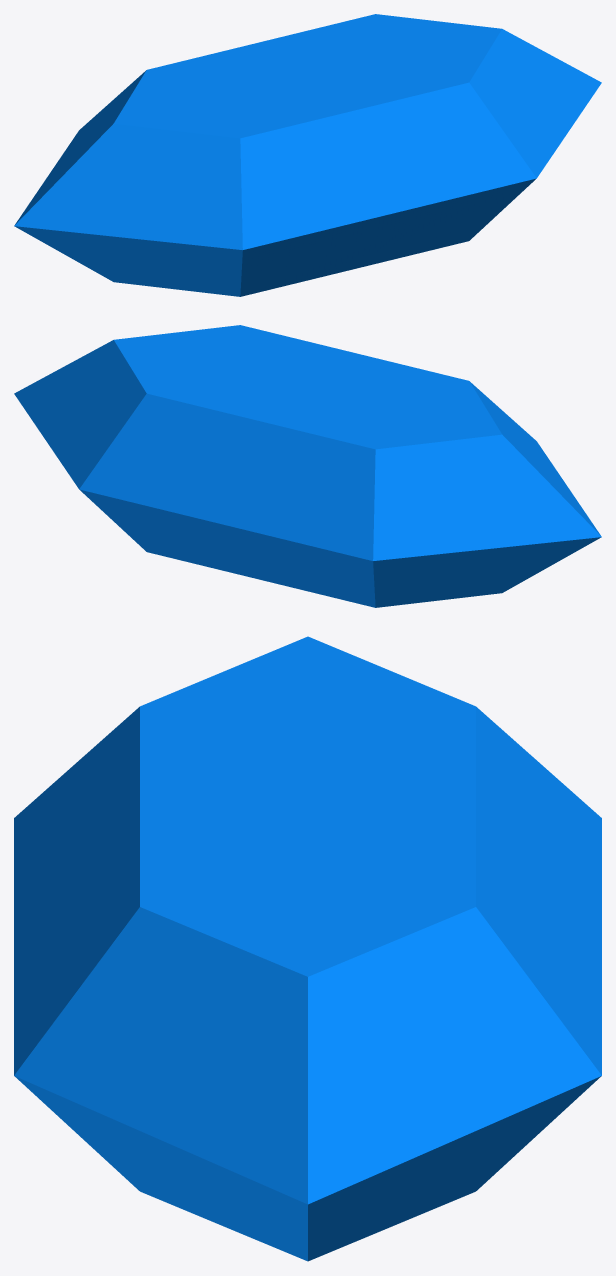
The model's file is daiya2.fbx.
The picture shows the model from 3 angles, top to bottom: view 1: azimuth 30°, elevation 25°; view 2: azimuth 150°, elevation 25°; view 3: azimuth 270°, elevation 25°; orthographic projection. The views are drawn at different scales.
Parts seen in each view (by area): view 1: pCylinder1; view 2: pCylinder1; view 3: pCylinder1.
Part boxes in pixels (x1,y1,x2,y2): pCylinder1: [14, 14, 601, 296]; pCylinder1: [14, 325, 601, 607]; pCylinder1: [14, 636, 601, 1261].
Bounding box in the file's own units: 2.81 × 0.724 × 1.36.
